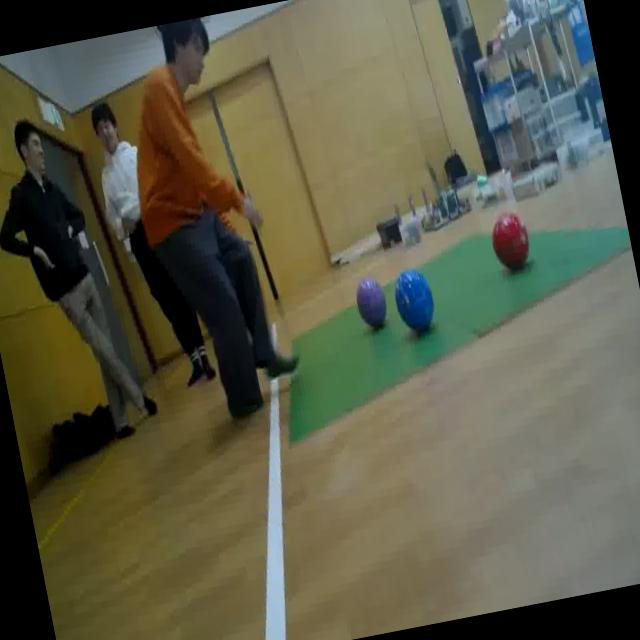blue_ball: (391, 260, 440, 338)
purple_ball: (349, 262, 398, 340)
red_ball: (482, 200, 544, 284)
